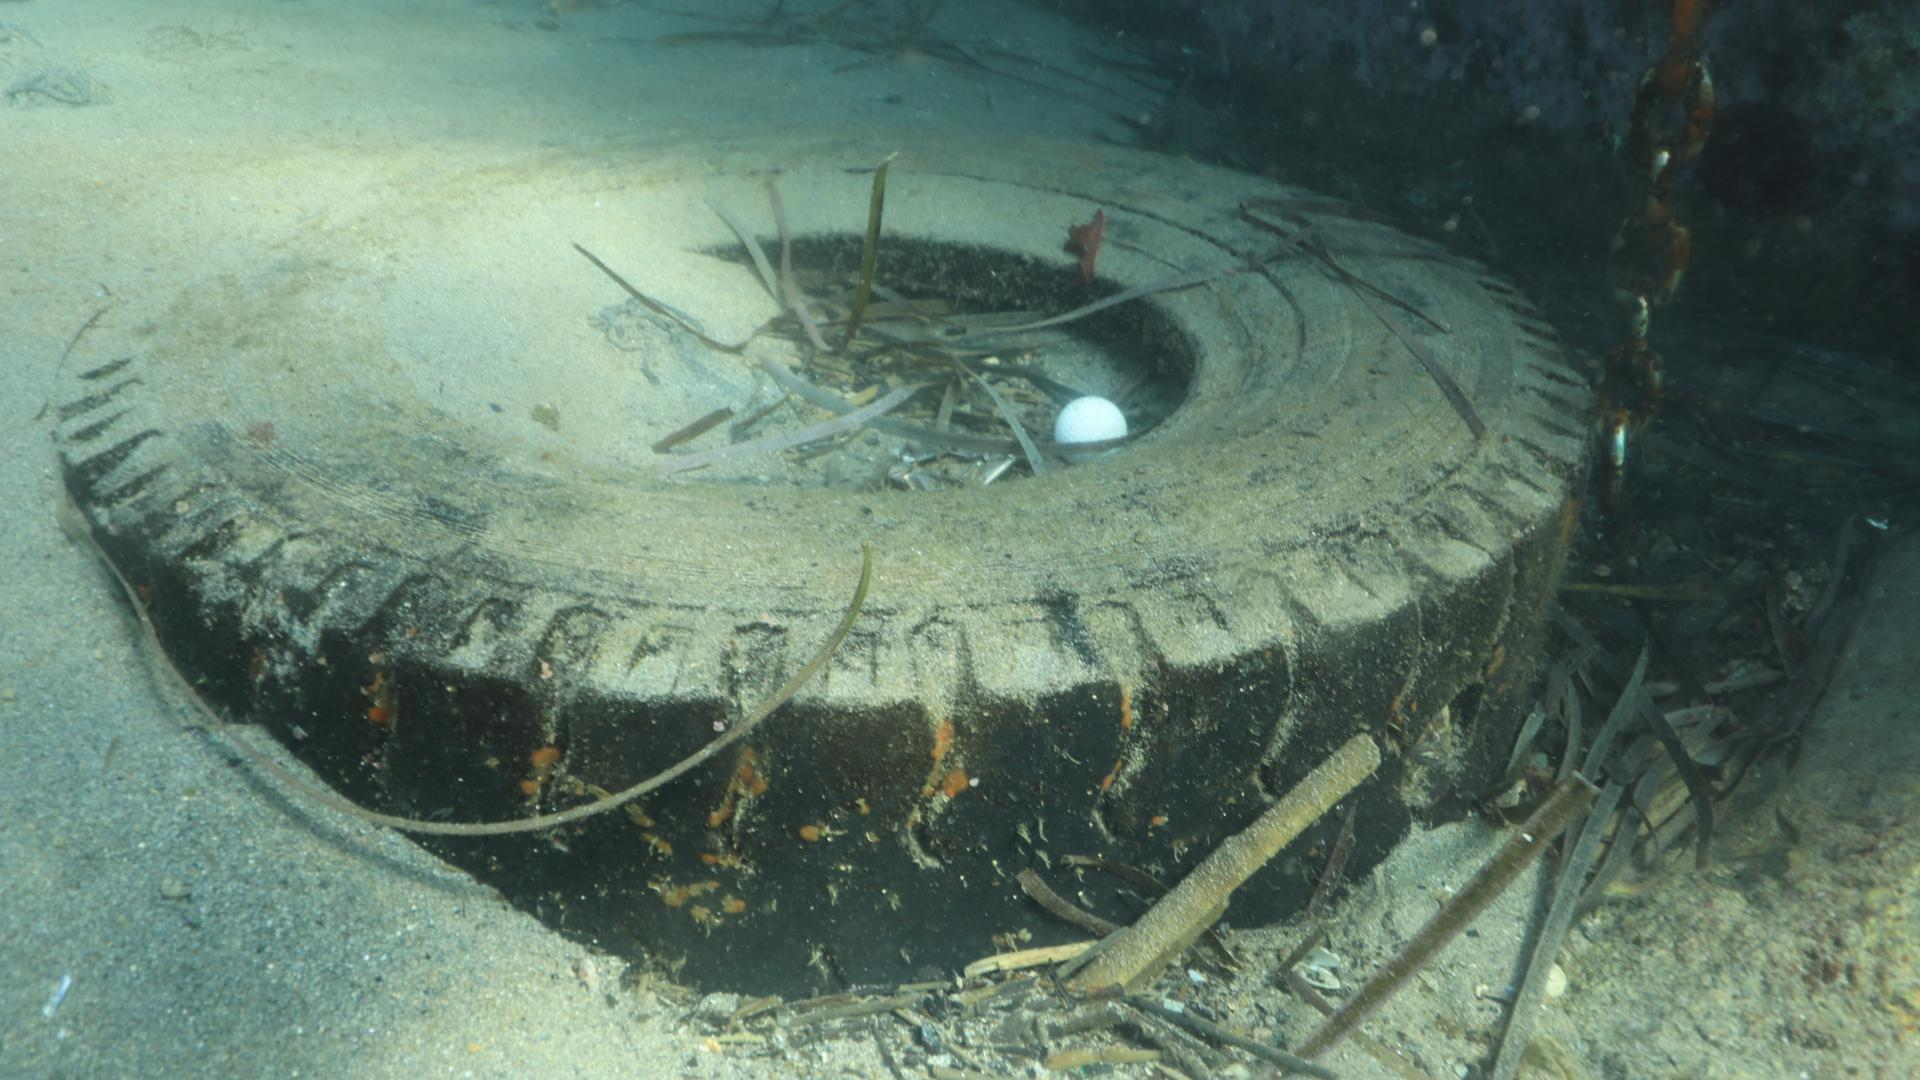tire: (49, 116, 1597, 1004)
